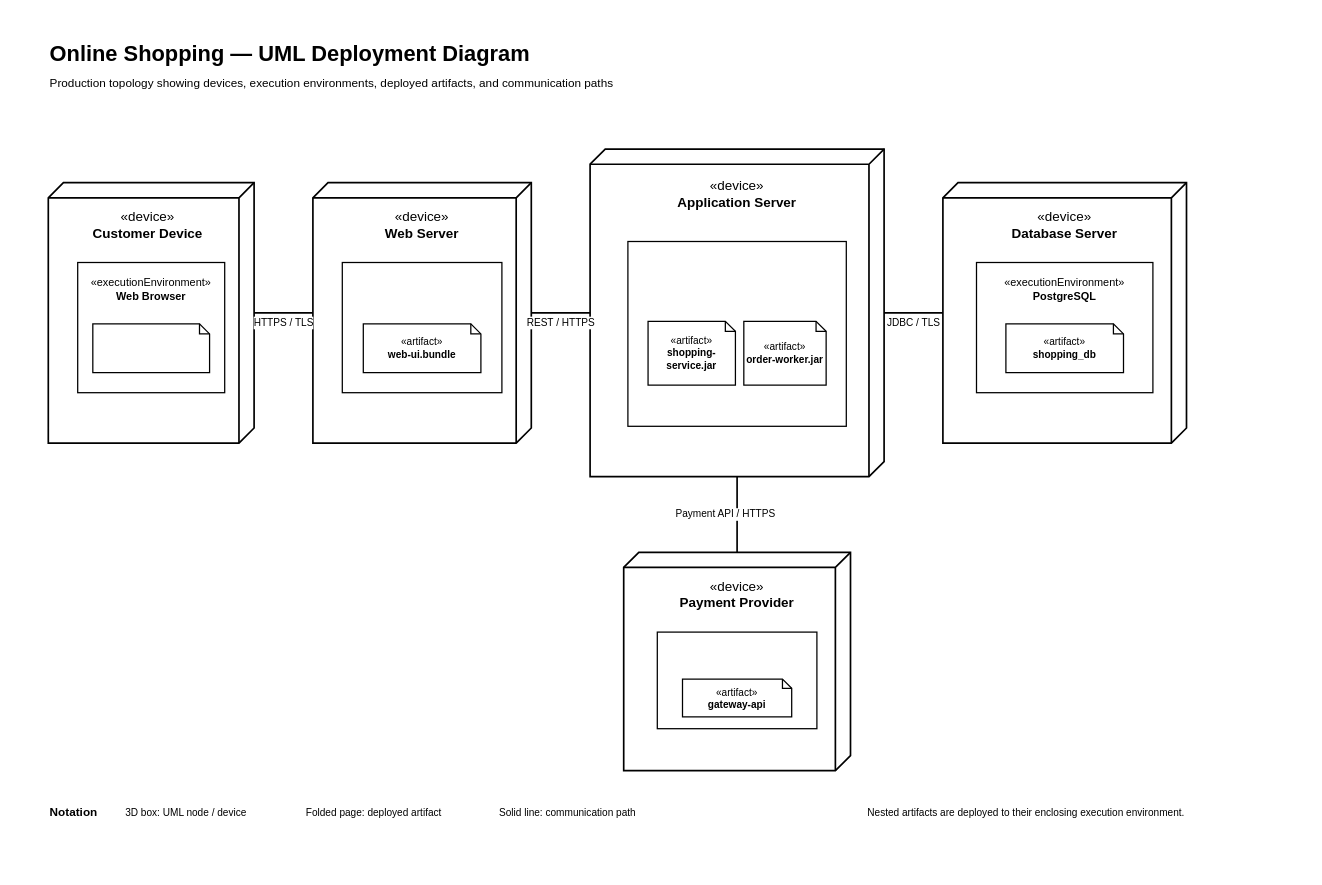
The diagram is 1322 pixels wide and 885 high, and some of its shapes have lost their labels. The box of each missing label's shape, as (x1, y1, x2, y2) in pixels:
«artifact» shopping-web-client: (92, 323, 210, 373)
«executionEnvironment» Java Runtime: (627, 240, 847, 427)
«executionEnvironment» Nginx: (341, 261, 502, 393)
«executionEnvironment» Payment API Runtime: (656, 631, 817, 729)
